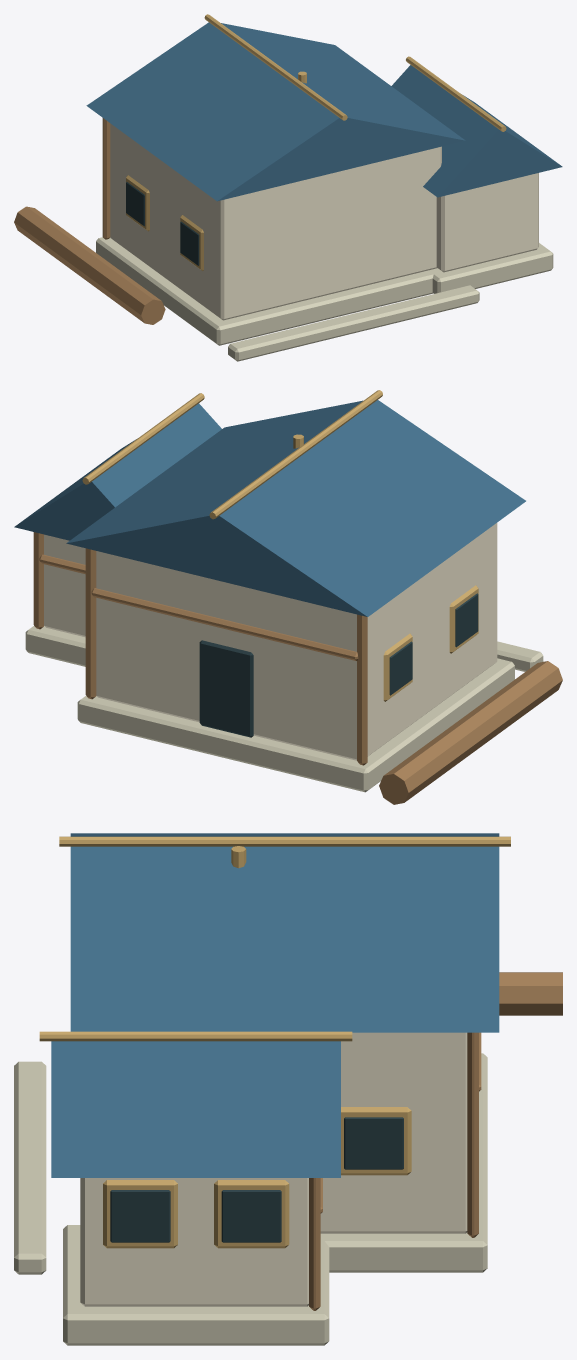
The model's file is level_09.glb.
3 views of the same model, one above another, from view 1: azimuth 30°, elevation 25°; view 2: azimuth 150°, elevation 25°; view 3: azimuth 270°, elevation 25° (orthographic). The views are drawn at different scales.
Parts seen in each view (by area): view 1: timber_yard — level 09; view 2: timber_yard — level 09; view 3: timber_yard — level 09.
Part boxes in pixels (x1,y1,x2,y2): timber_yard — level 09: (14, 14, 562, 361); timber_yard — level 09: (14, 390, 562, 804); timber_yard — level 09: (14, 833, 562, 1345).
Size of the model in its own units: 6.43 by 3.26 by 4.74.
